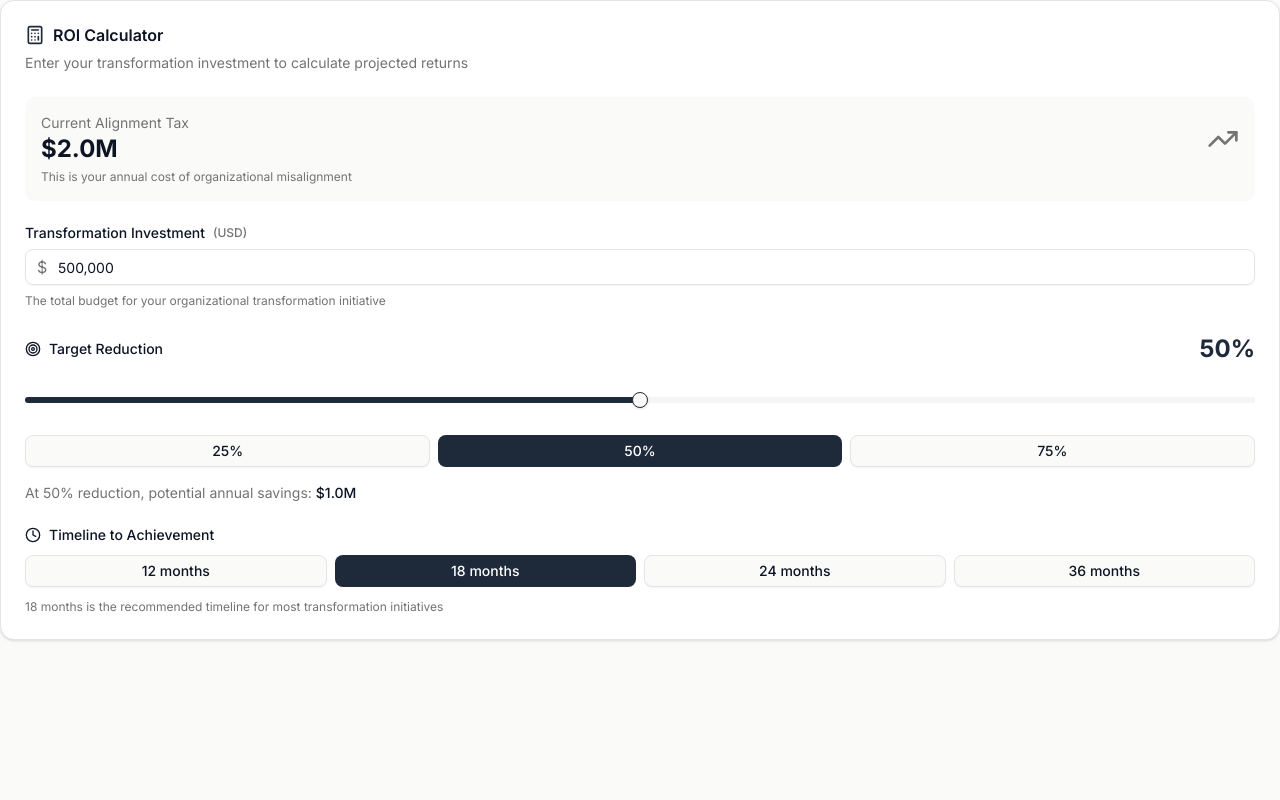
ROICalculator › should format investment input on blur
Note: Focus and blur to trigger formatting
Step 1. Click the field labelled "Transformation Investment (USD)" → (640, 267), box [25, 249, 1255, 285]
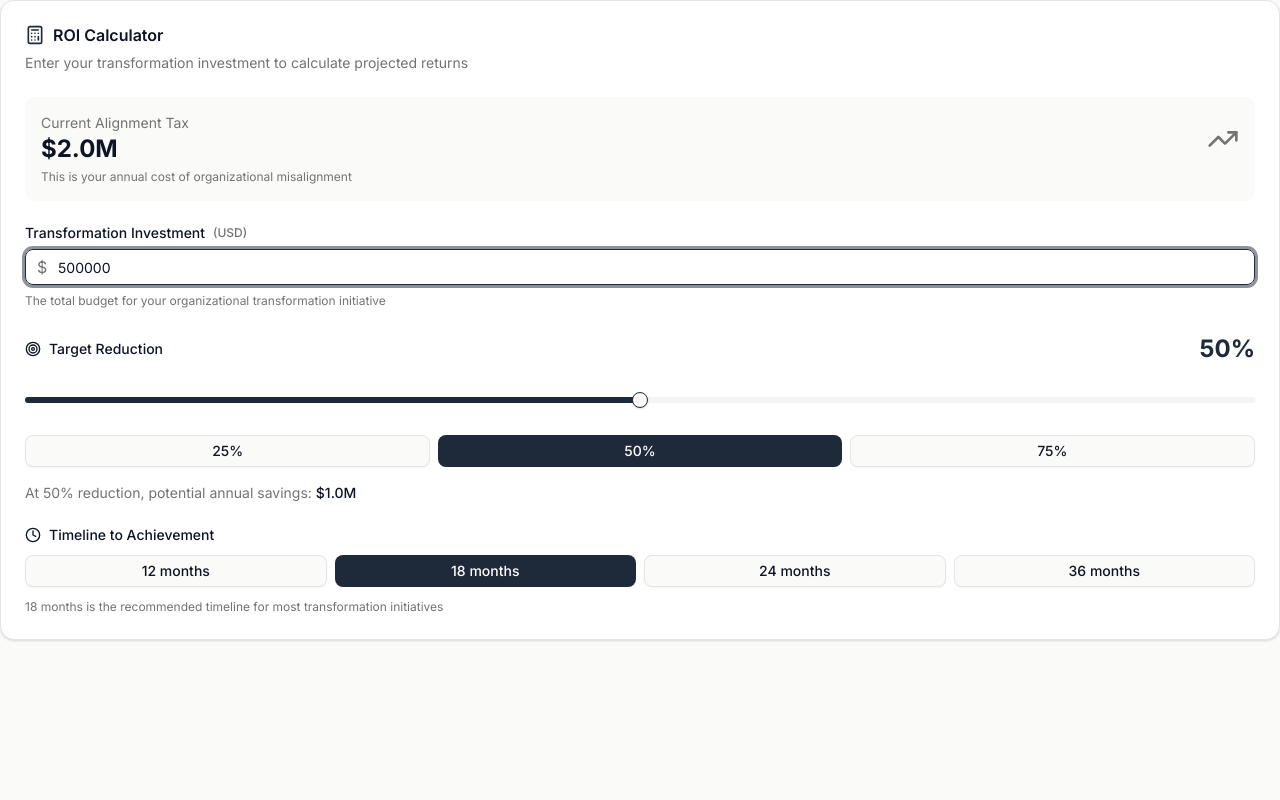
Step 2. Press Tab
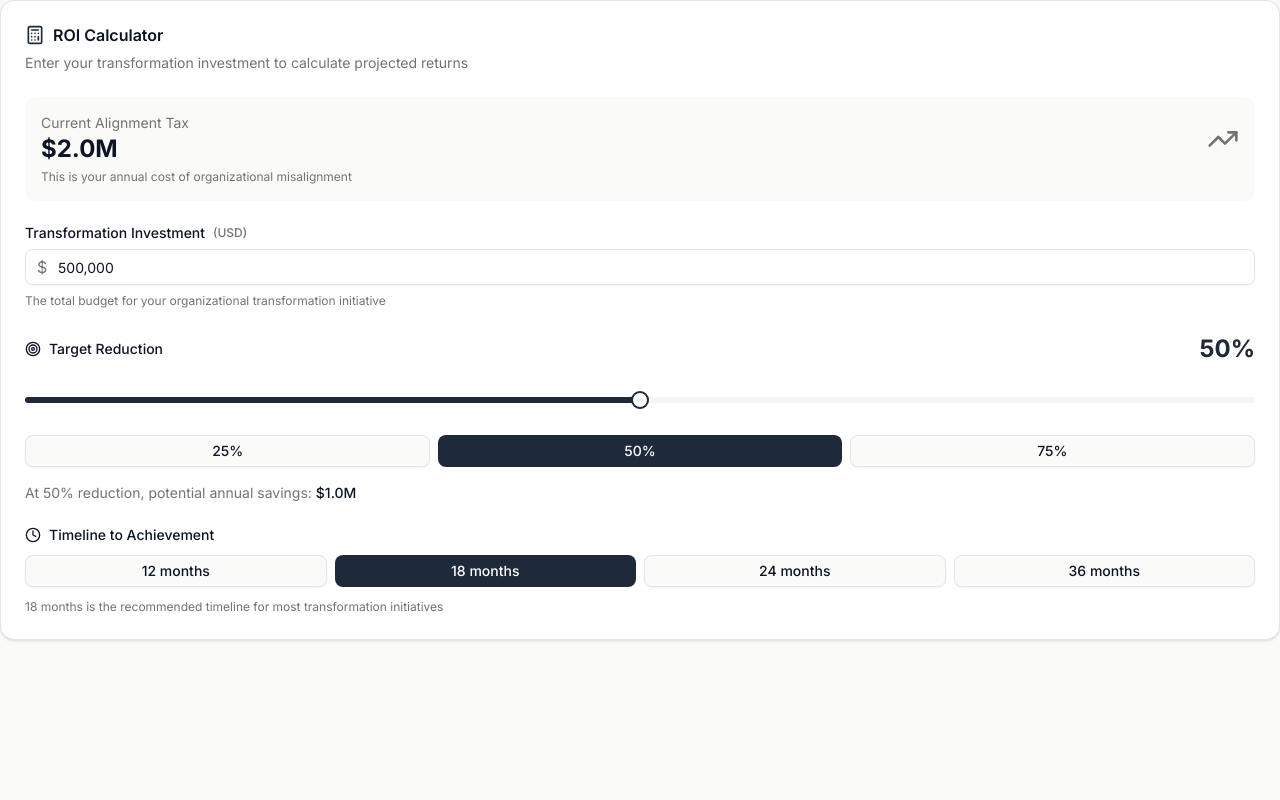
Now the field labelled "Transformation Investment (USD)" holds "500,000", box [25, 249, 1255, 285]
